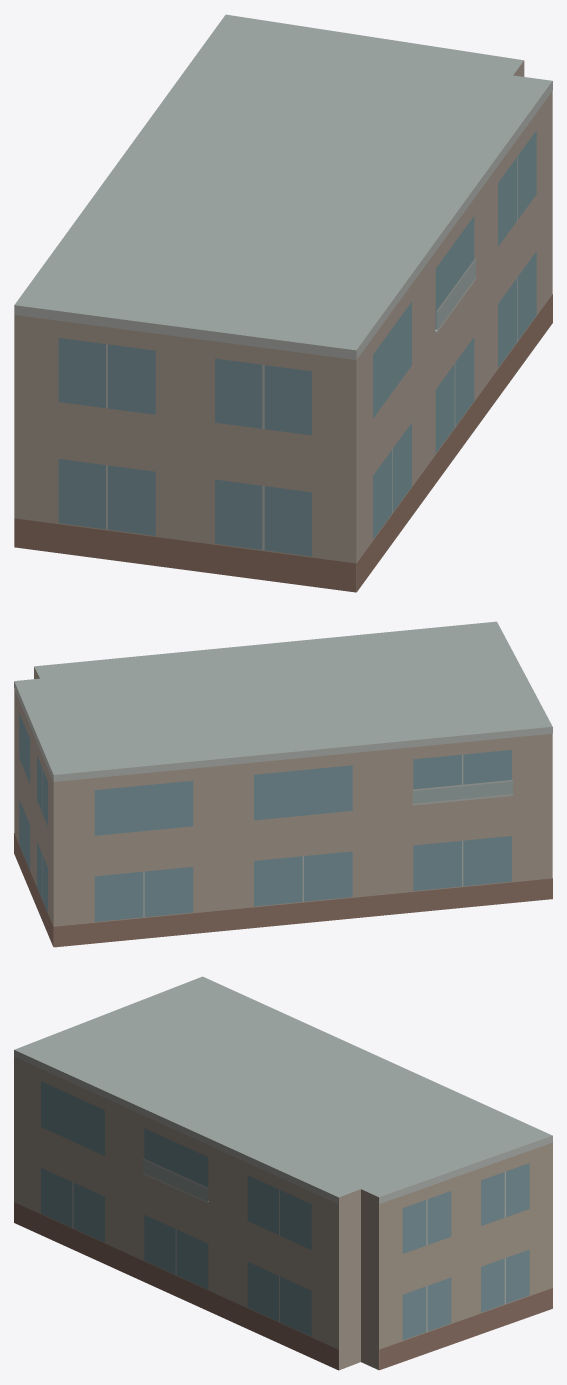
Rendered from survey-upis-32912921.glb.
3 views of the same model, one above another, from view 1: azimuth 30°, elevation 25°; view 2: azimuth 150°, elevation 25°; view 3: azimuth 270°, elevation 25° (orthographic). The views are drawn at different scales.
Parts seen in each view (by area): view 1: survey-upis-32912921.tmp; view 2: survey-upis-32912921.tmp; view 3: survey-upis-32912921.tmp.
Boxes of the visible parts, x1,y1,x2,y2 form: survey-upis-32912921.tmp: [14, 14, 552, 592]; survey-upis-32912921.tmp: [14, 621, 552, 947]; survey-upis-32912921.tmp: [14, 976, 552, 1370].
Size of the model in its own units: 16.72 by 6.1 by 17.22.
